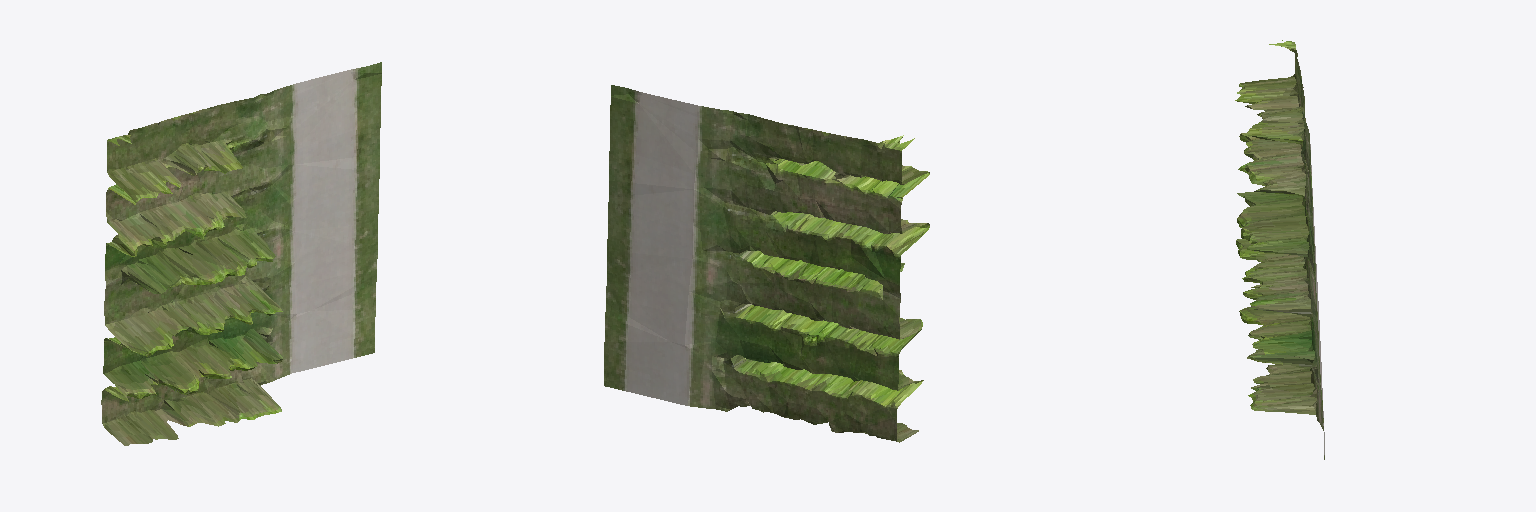
3 views of the same model, side by side, from view 1: azimuth 30°, elevation 25°; view 2: azimuth 150°, elevation 25°; view 3: azimuth 270°, elevation 25° (orthographic).
Parts seen in each view (by area): view 1: grp1; view 2: grp1; view 3: grp1.
Part boxes in pixels (bbox=[...]): grp1: bbox=[101, 62, 381, 445]; grp1: bbox=[604, 85, 929, 442]; grp1: bbox=[1235, 40, 1324, 459].
Size of the model in its own units: 10 by 10 by 2.77.
1 materials, 1 textured.